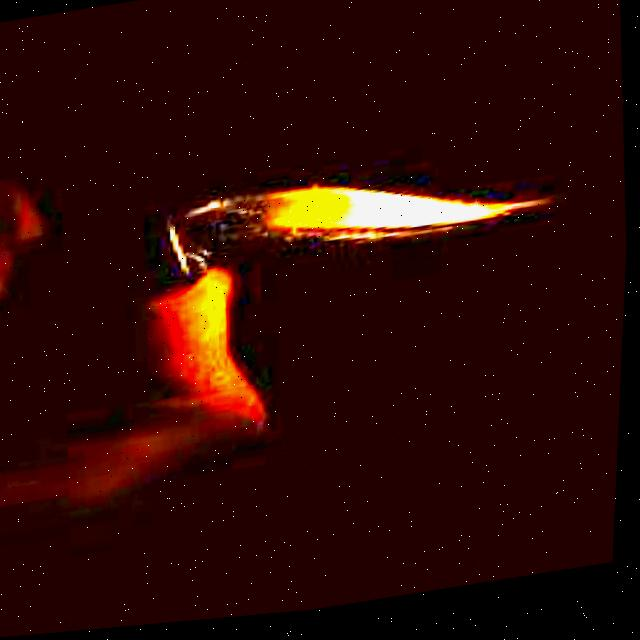Fire: (171, 161, 545, 276)
